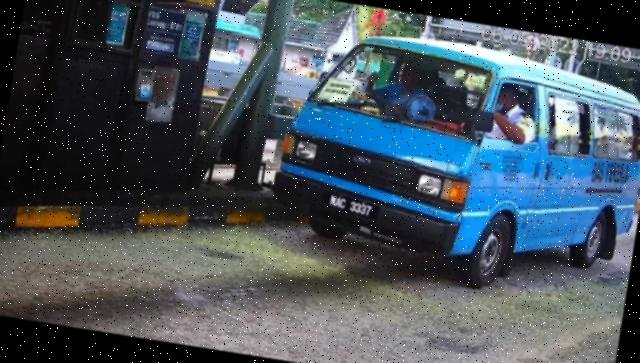License_Plate: (321, 193, 381, 222)
van: (265, 19, 640, 309)
